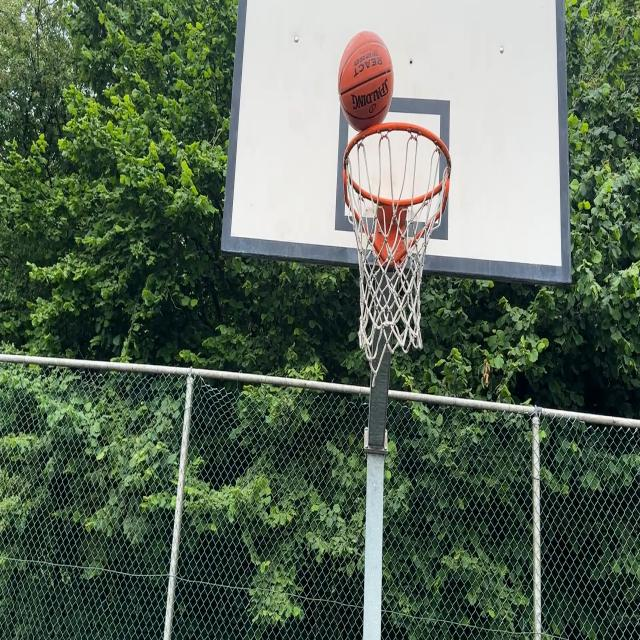rebound_hit: (336, 31, 394, 138)
